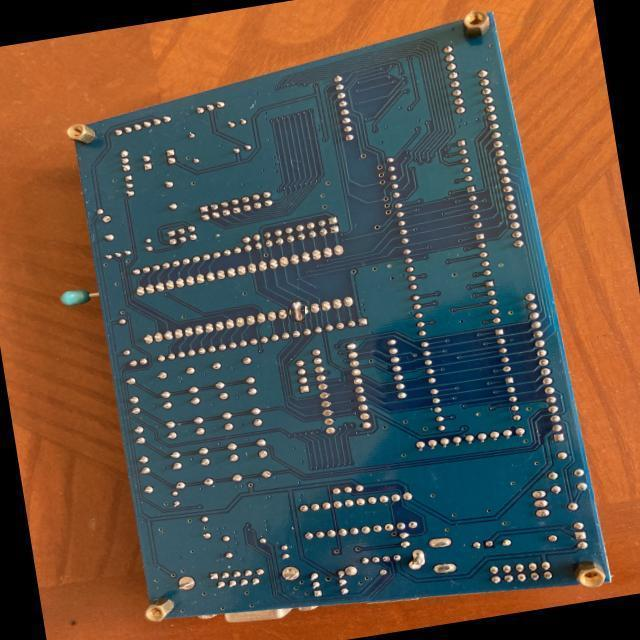damged: (289, 302, 308, 321)
